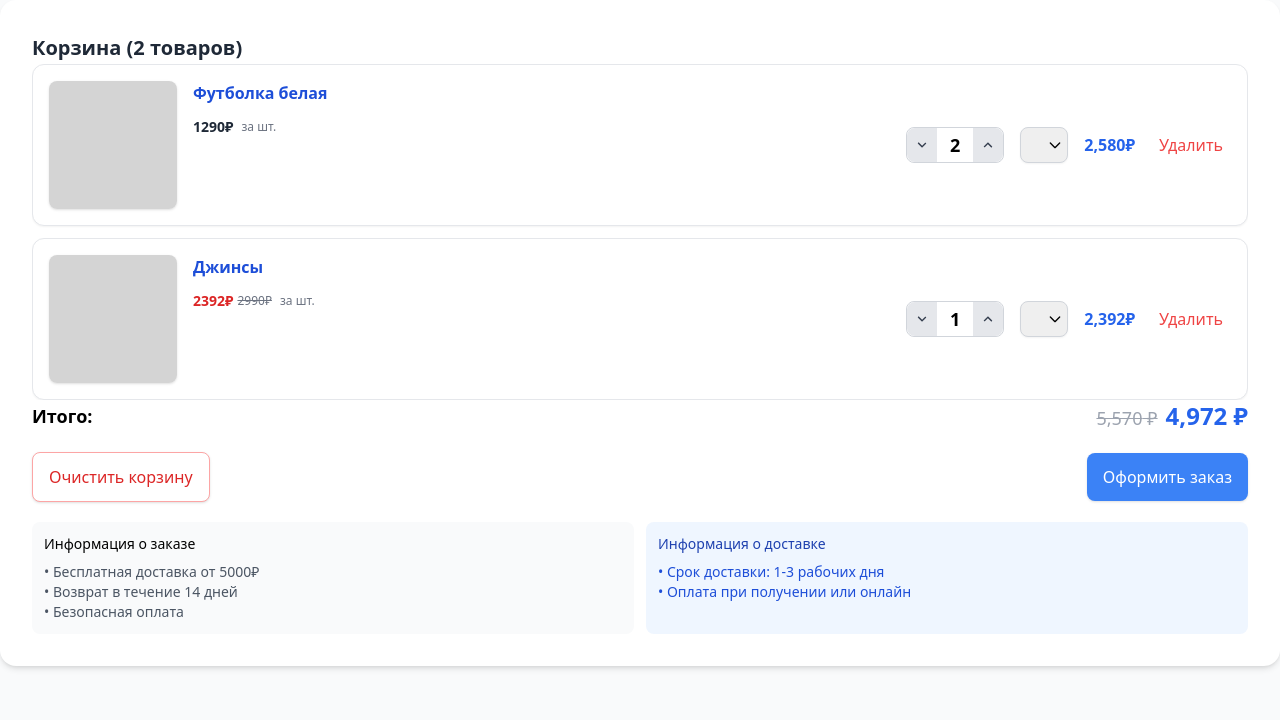
Test case: CartView › Корзина с товарами › отображает состояние загрузки при оформлении заказа
The width and height of the screenshot is (1280, 720).
Click the button "Оформить заказ": click(1167, 477) [1087,453,1248,501]
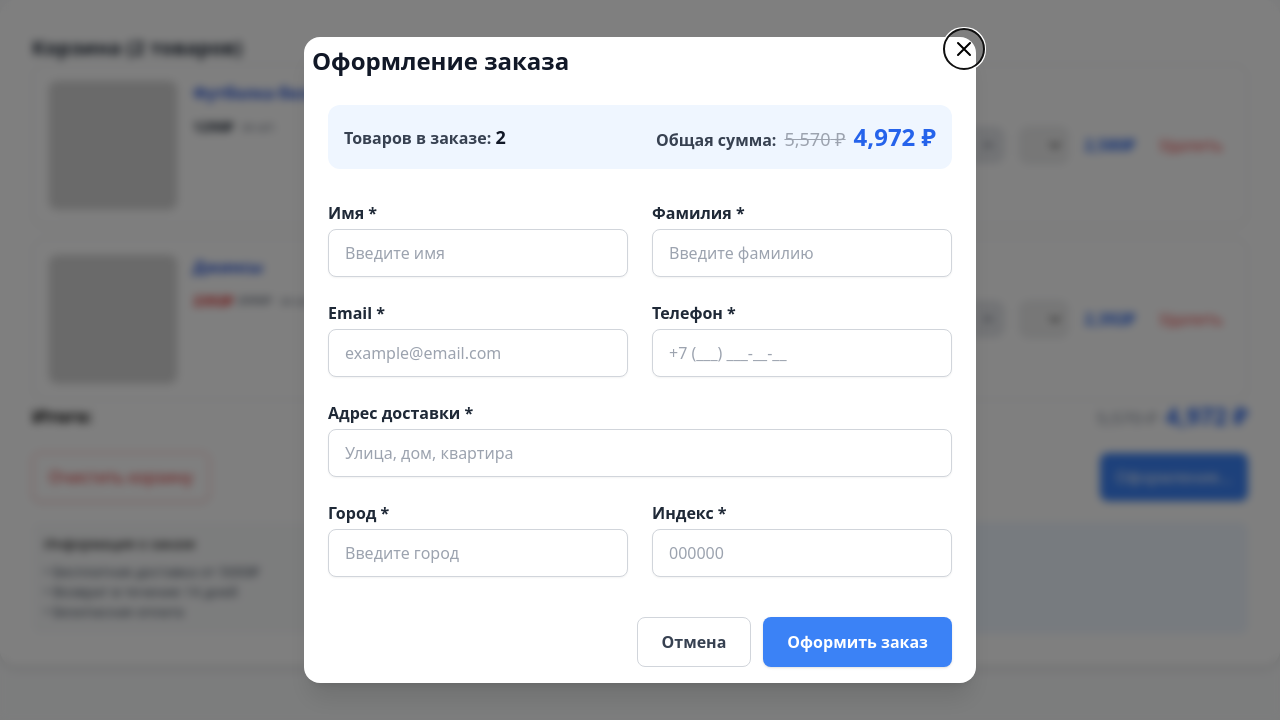
Expected: the button "Оформление..." is shown, [1116,465,1232,489]
